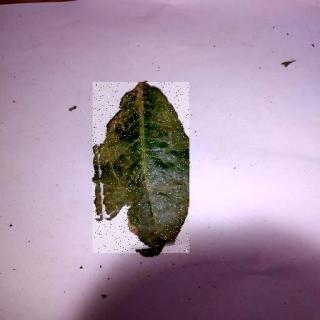Anthracnose: (94, 84, 191, 255)
